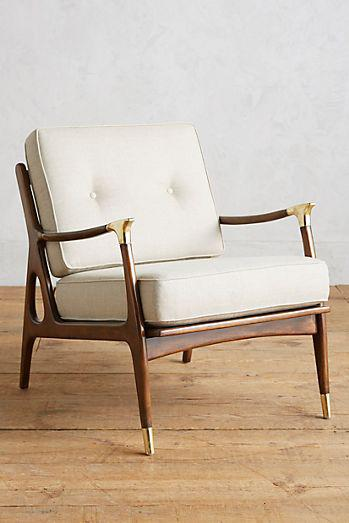chair: (16, 85, 347, 464)
